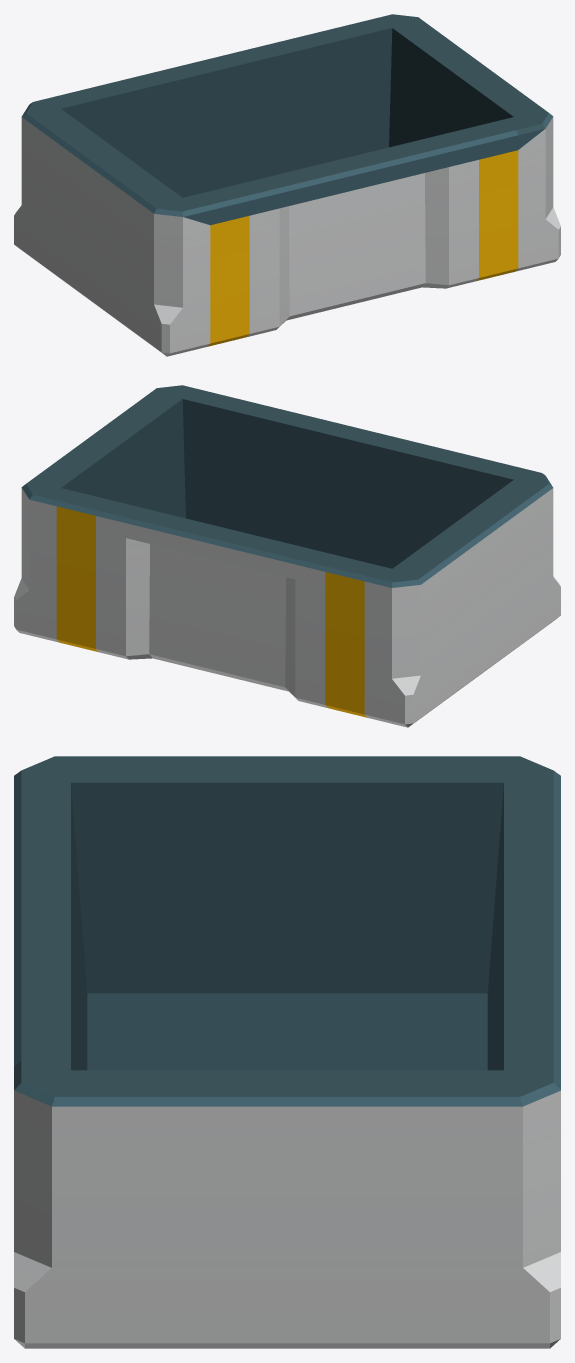
Rendered from Crate_004.fbx.
3 views of the same model, one above another, from view 1: azimuth 30°, elevation 25°; view 2: azimuth 150°, elevation 25°; view 3: azimuth 270°, elevation 25° (orthographic). The views are drawn at different scales.
Visible parts, largest first — view 1: Crate_004; view 2: Crate_004; view 3: Crate_004.
Boxes of the visible parts, x1=… form: Crate_004: x1=14, y1=14, x2=560, y2=356; Crate_004: x1=14, y1=385, x2=560, y2=727; Crate_004: x1=14, y1=756, x2=560, y2=1348.
Bounding box in the file's own units: 90 × 60 × 30.66.
